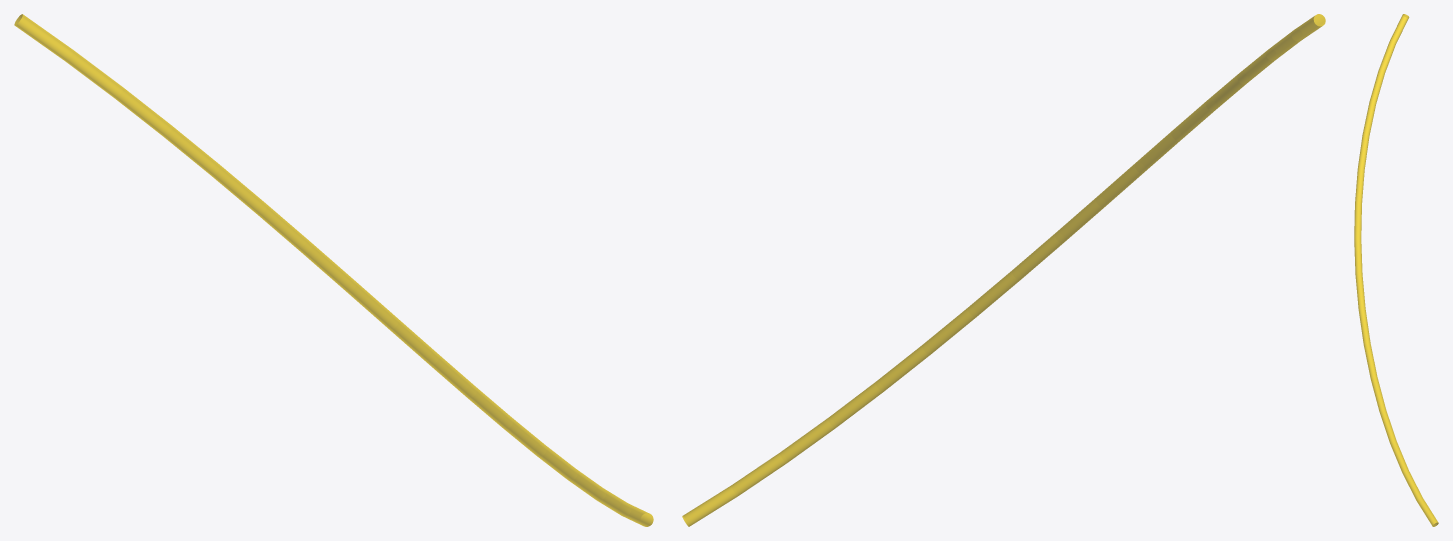
The model's file is Event_402970704_track_68.fbx.
3 renders of one model, left to right at view 1: azimuth 30°, elevation 25°; view 2: azimuth 150°, elevation 25°; view 3: azimuth 270°, elevation 25°, orthographic. The views are drawn at different scales.
Visible parts, largest first — view 1: Model; view 2: Model; view 3: Model.
Boxes of the visible parts, x1,y1,x2,y2 form: Model: (14, 14, 653, 526); Model: (682, 14, 1325, 526); Model: (1354, 14, 1438, 526).
Size of the model in its own units: 2.19 by 2.17 by 0.4738.
